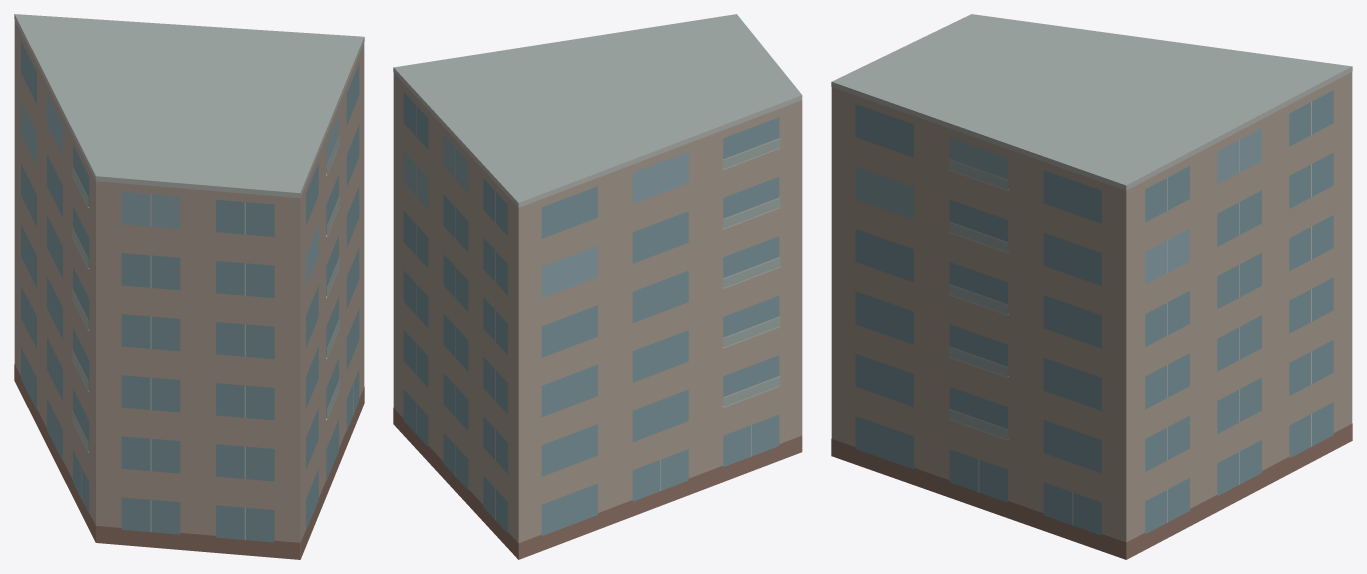
File: survey-upis-32659438.glb
3 renders of one model, left to right at view 1: azimuth 30°, elevation 25°; view 2: azimuth 150°, elevation 25°; view 3: azimuth 270°, elevation 25°, orthographic. The views are drawn at different scales.
Visible parts, largest first — view 1: survey-upis-32659438.tmp; view 2: survey-upis-32659438.tmp; view 3: survey-upis-32659438.tmp.
Boxes of the visible parts, x1,y1,x2,y2 form: survey-upis-32659438.tmp: (14, 14, 364, 559); survey-upis-32659438.tmp: (393, 14, 802, 559); survey-upis-32659438.tmp: (831, 14, 1352, 559).
Bounding box in the file's own units: 17.35 × 17.65 × 22.27.
